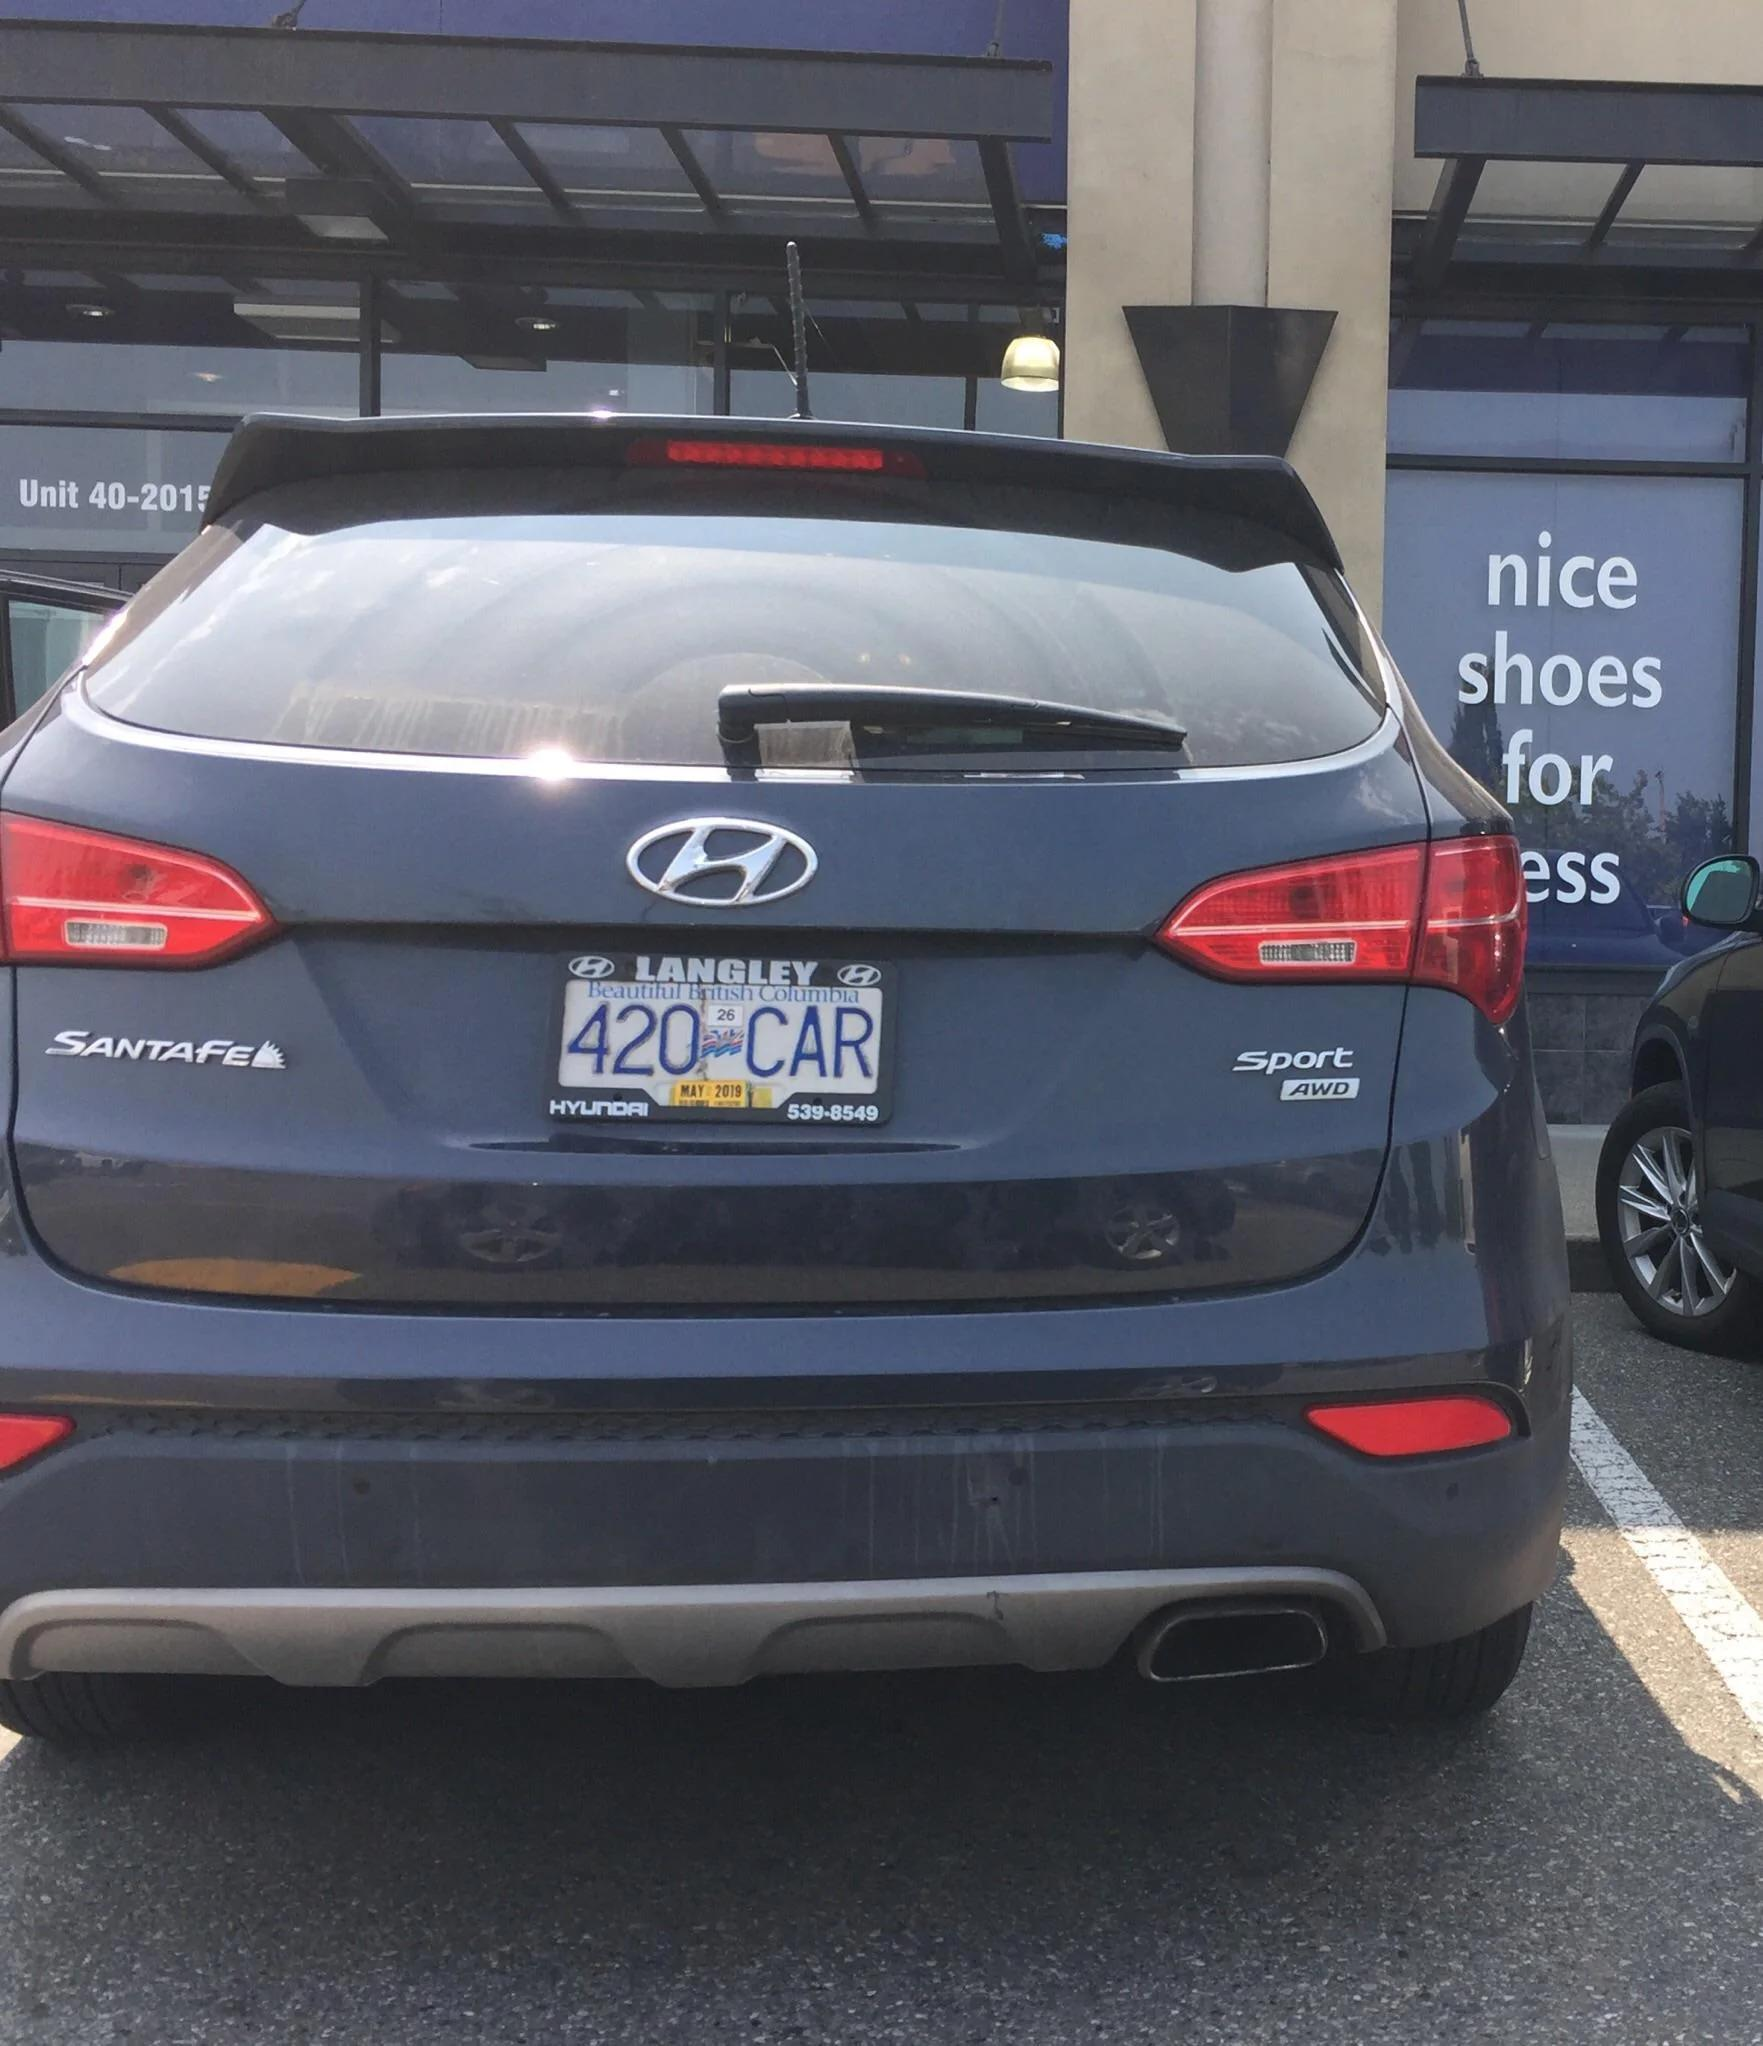licence: (525, 914, 928, 1137)
